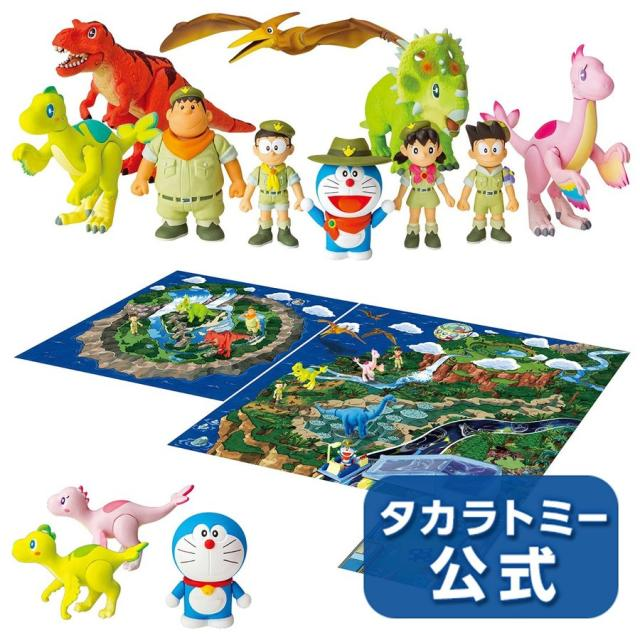doraemon: (165, 502, 256, 618), (313, 151, 392, 232)
jaian: (165, 92, 220, 155)
nobita: (248, 120, 297, 173)
shizuka: (399, 127, 447, 179)
suneo: (462, 116, 517, 185)
